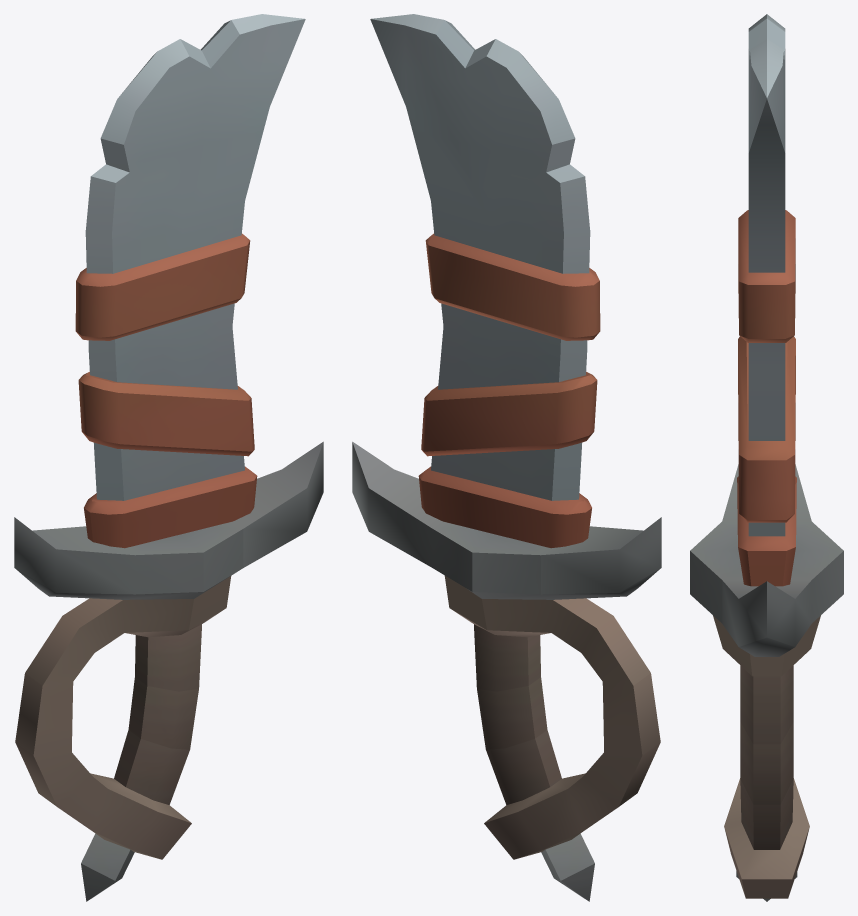
File: w_blade.glb
3 views of the same model, side by side, from view 1: azimuth 30°, elevation 25°; view 2: azimuth 150°, elevation 25°; view 3: azimuth 270°, elevation 25° (orthographic). The views are drawn at different scales.
Parts seen in each view (by area): view 1: Skeleton_Blade; view 2: Skeleton_Blade; view 3: Skeleton_Blade.
Part boxes in pixels (x1,y1,x2,y2): Skeleton_Blade: [14, 14, 323, 901]; Skeleton_Blade: [352, 14, 661, 901]; Skeleton_Blade: [690, 14, 843, 901].
Bounding box in the file's own units: 0.5727 × 1.5 × 0.2222.
Materials: 1 (1 with a texture image).
